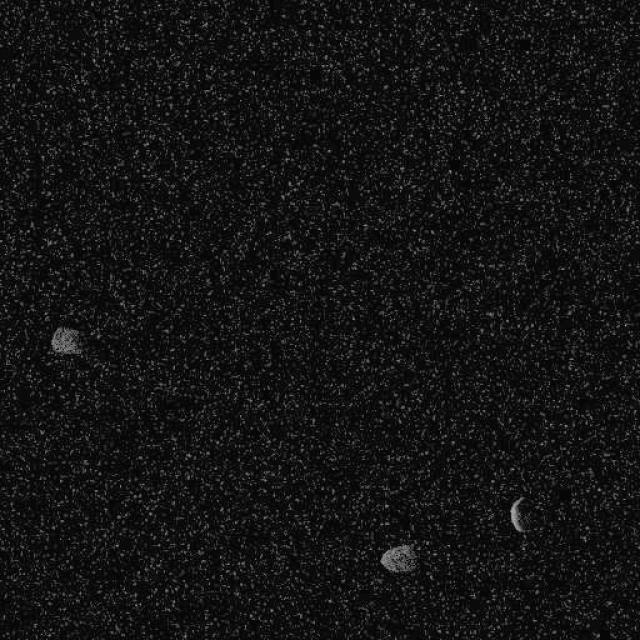D2: (378, 542, 418, 574), (48, 324, 84, 356), (509, 495, 529, 534)
